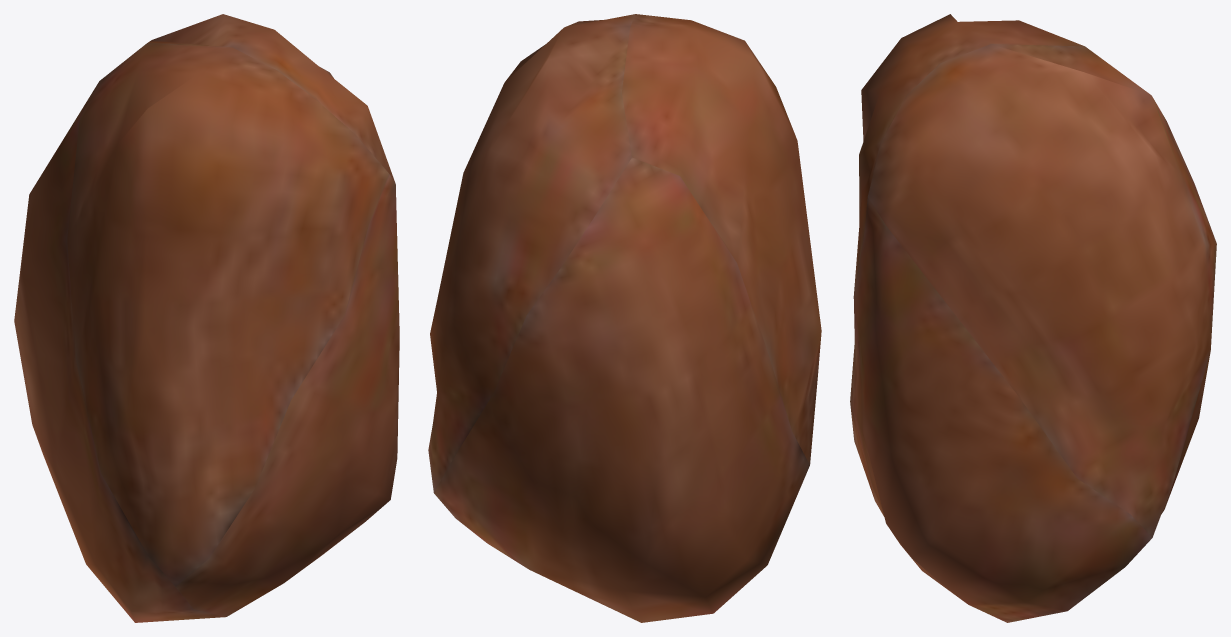
Rendered from Canyon_Rock_Boulders_3.glb.
The picture shows the model from 3 angles, left to right: view 1: azimuth 30°, elevation 25°; view 2: azimuth 150°, elevation 25°; view 3: azimuth 270°, elevation 25°; orthographic projection.
Visible parts, largest first — view 1: Canyon_Rock_Boulders_3_0; view 2: Canyon_Rock_Boulders_3_0; view 3: Canyon_Rock_Boulders_3_0.
Part boxes in pixels (box(x1,y1,x2,y2)): Canyon_Rock_Boulders_3_0: box(14, 14, 399, 622); Canyon_Rock_Boulders_3_0: box(428, 14, 821, 622); Canyon_Rock_Boulders_3_0: box(850, 14, 1216, 622).
Bounding box in the file's own units: 2.39 × 4.37 × 2.57.
Materials: 1 (1 with a texture image).
